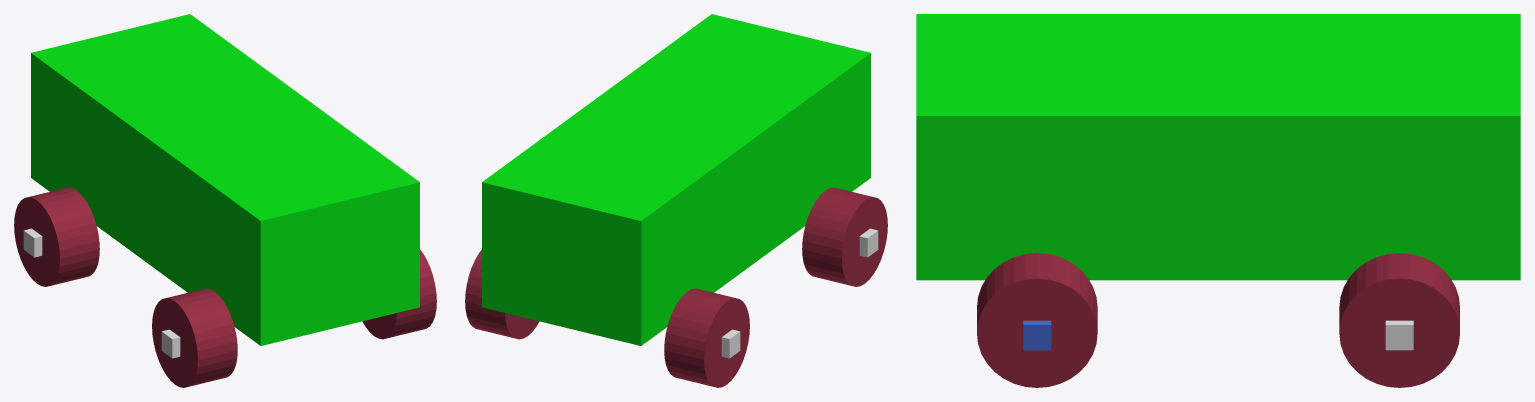
File: testVehicle1.glb
3 renders of one model, left to right at view 1: azimuth 30°, elevation 25°; view 2: azimuth 150°, elevation 25°; view 3: azimuth 270°, elevation 25°, orthographic. The views are drawn at different scales.
Parts seen in each view (by area): view 1: Cube, wheelRearRight, wheelFrontRight, wheelFrontLeft, Cube.004, Cube.003; view 2: Cube, wheelFrontRight, wheelRearRight, wheelRearLeft, Cube.004, Cube.003; view 3: Cube, wheelRearLeft, wheelFrontLeft, Cube.001, Cube.002.
Part boxes in pixels (x1,y1,x2,y2): Cube: (31,14,419,345); wheelRearRight: (14,187,99,286); wheelFrontRight: (152,288,237,387); wheelFrontLeft: (362,249,436,339); Cube.004: (23,228,42,257); Cube.003: (161,329,180,358); Cube: (482,14,870,345); wheelFrontRight: (802,187,887,286); wheelRearRight: (664,288,749,387); wheelRearLeft: (465,249,539,339); Cube.004: (721,329,740,358); Cube.003: (859,228,878,257); Cube: (916,14,1520,280); wheelRearLeft: (1339,253,1459,387); wheelFrontLeft: (977,253,1097,387); Cube.001: (1385,320,1413,350); Cube.002: (1023,320,1051,350).
Bounding box in the file's own units: 6.37 × 4.5 × 10.
